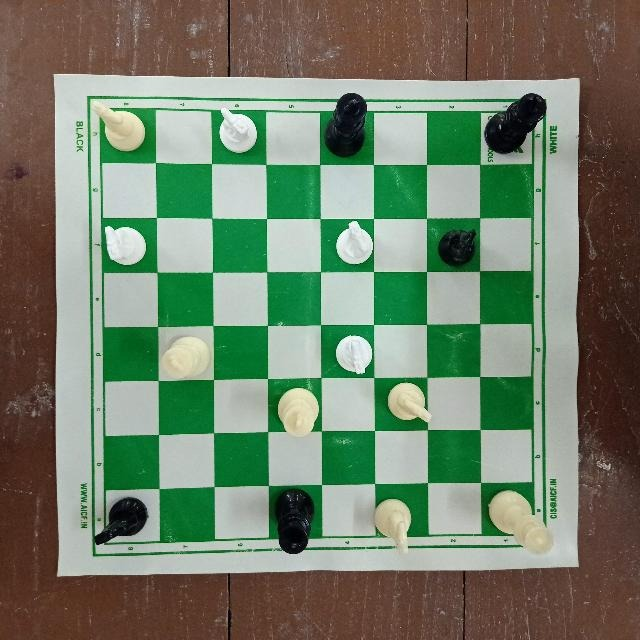black-king: (484, 88, 549, 161), (320, 89, 372, 160), (271, 484, 318, 559)
black-knight: (92, 495, 150, 545), (432, 226, 481, 270)
white-king: (157, 331, 211, 382), (274, 383, 321, 441)
white-knight: (84, 99, 145, 154), (371, 494, 417, 556), (383, 379, 435, 429), (215, 105, 261, 155), (330, 218, 375, 268), (100, 222, 151, 266), (331, 328, 375, 375)
white-queen: (487, 488, 556, 557)
